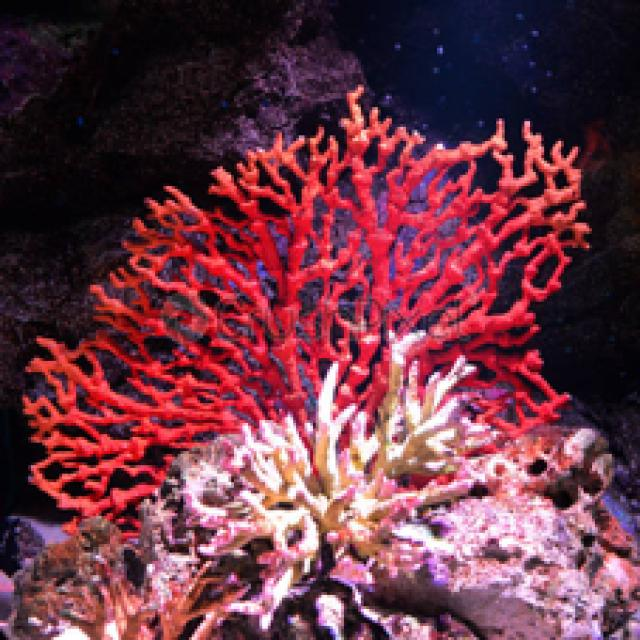Healthy: (24, 91, 585, 525), (187, 334, 483, 624), (376, 489, 607, 638)
